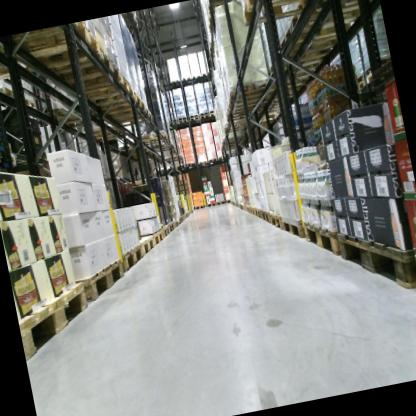pallet: (333, 217, 416, 302), (13, 281, 96, 362), (35, 37, 126, 99), (3, 21, 102, 75), (275, 0, 359, 50), (261, 32, 360, 74), (60, 69, 140, 113), (70, 256, 128, 303), (240, 0, 329, 26), (87, 89, 148, 122), (302, 213, 343, 262), (100, 103, 154, 131), (48, 101, 96, 131), (0, 35, 25, 87), (225, 80, 274, 106), (305, 0, 379, 15), (87, 121, 130, 146), (226, 94, 272, 114), (280, 211, 308, 243), (117, 242, 146, 272), (361, 57, 391, 82), (137, 129, 170, 149), (224, 102, 254, 122), (117, 138, 146, 158), (17, 90, 40, 112), (137, 234, 157, 256), (144, 141, 175, 155), (269, 208, 284, 232), (260, 206, 274, 227), (149, 228, 164, 245), (163, 153, 184, 164), (352, 77, 367, 89), (161, 224, 171, 238), (254, 205, 263, 220), (204, 200, 217, 209), (174, 161, 186, 170), (167, 219, 176, 231), (249, 204, 257, 216), (244, 203, 251, 216), (193, 203, 206, 210), (217, 154, 228, 162), (171, 218, 179, 229), (177, 118, 189, 125), (197, 159, 208, 166), (207, 156, 218, 163), (189, 115, 199, 122), (215, 199, 226, 205), (167, 121, 178, 127), (186, 161, 196, 167), (199, 113, 209, 119), (177, 215, 182, 224), (209, 112, 215, 117)
